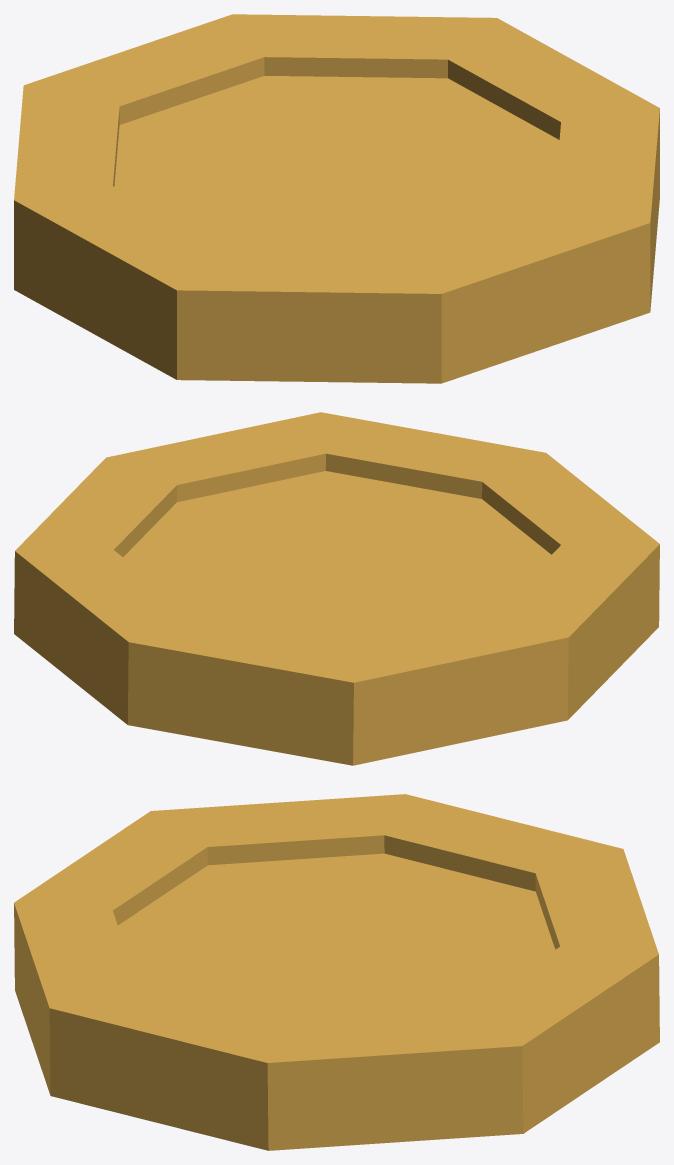
File: Coins4.fbx
3 renders of one model, top to bottom at view 1: azimuth 30°, elevation 25°; view 2: azimuth 150°, elevation 25°; view 3: azimuth 270°, elevation 25°, orthographic. The views are drawn at different scales.
Parts seen in each view (by area): view 1: one coin; view 2: one coin; view 3: one coin.
Part boxes in pixels (<box>): one coin: <box>14,14,659,383</box>; one coin: <box>14,412,659,765</box>; one coin: <box>14,794,659,1150</box>.
Bounding box in the file's own units: 0.072 × 0.0117 × 0.072.
